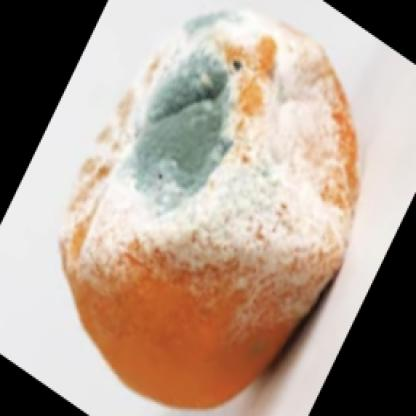rotten: (56, 11, 359, 410)
